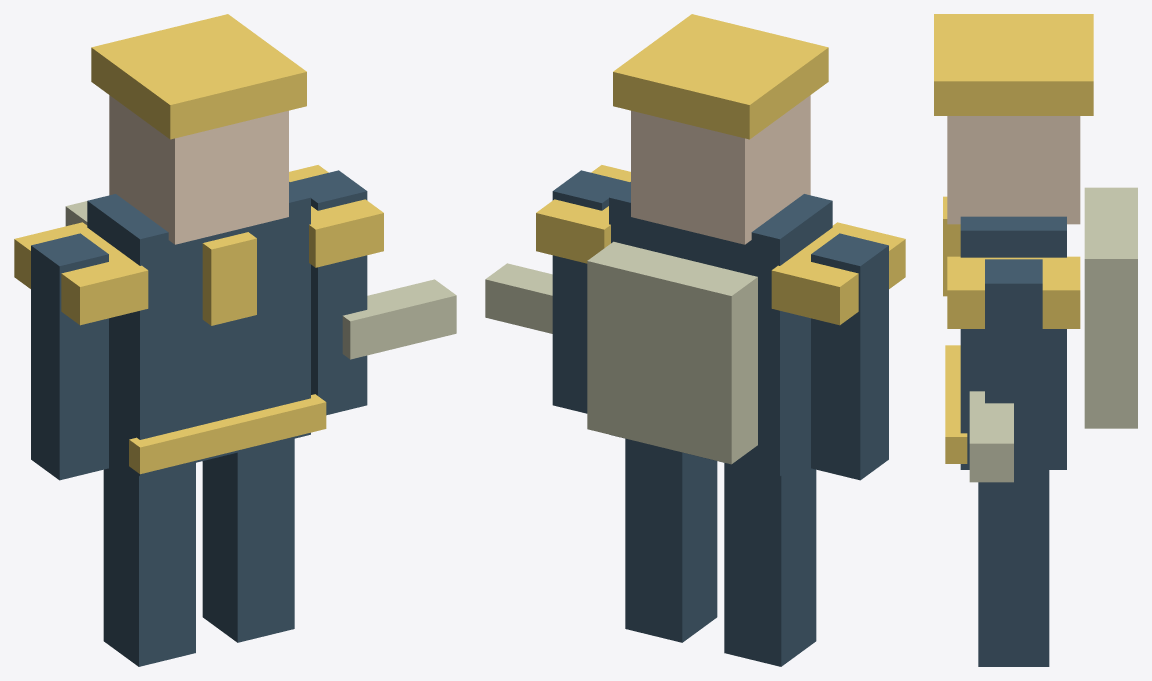
Rendered from 01_juno_rootborne_broker_from_skybridge.glb.
3 renders of one model, left to right at view 1: azimuth 30°, elevation 25°; view 2: azimuth 150°, elevation 25°; view 3: azimuth 270°, elevation 25°, orthographic.
Visible parts, largest first — view 1: Juno Rootborne, Broker from Skybridge; view 2: Juno Rootborne, Broker from Skybridge; view 3: Juno Rootborne, Broker from Skybridge.
Part boxes in pixels (x1,y1,x2,y2): Juno Rootborne, Broker from Skybridge: (14,14,456,666); Juno Rootborne, Broker from Skybridge: (485,14,905,666); Juno Rootborne, Broker from Skybridge: (934,14,1137,666).
Bounding box in the file's own units: 1.12 × 1.59 × 0.5039.
